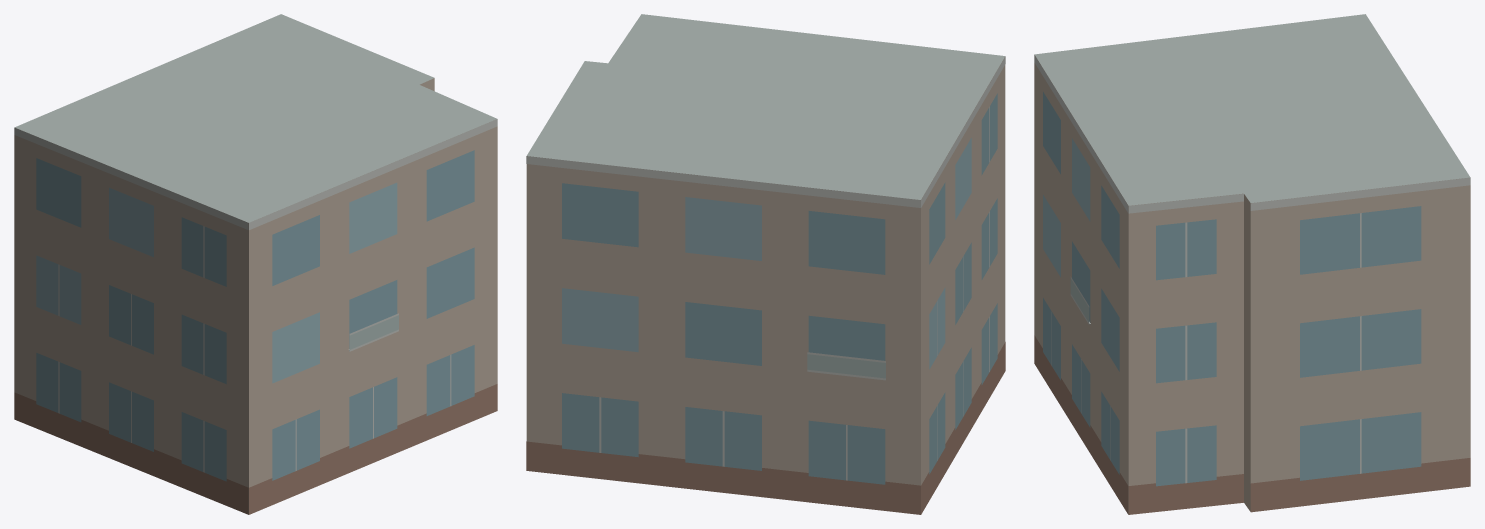
Rendered from survey-upis-32765493.glb.
3 views of the same model, side by side, from view 1: azimuth 30°, elevation 25°; view 2: azimuth 150°, elevation 25°; view 3: azimuth 270°, elevation 25° (orthographic). The views are drawn at different scales.
Visible parts, largest first — view 1: survey-upis-32765493.tmp; view 2: survey-upis-32765493.tmp; view 3: survey-upis-32765493.tmp.
Part boxes in pixels (left/top/right/bottom): survey-upis-32765493.tmp: left=14, top=14, right=497, bottom=514; survey-upis-32765493.tmp: left=526, top=14, right=1005, bottom=514; survey-upis-32765493.tmp: left=1034, top=14, right=1470, bottom=514.
Size of the model in its own units: 12.78 by 9.6 by 12.29.
